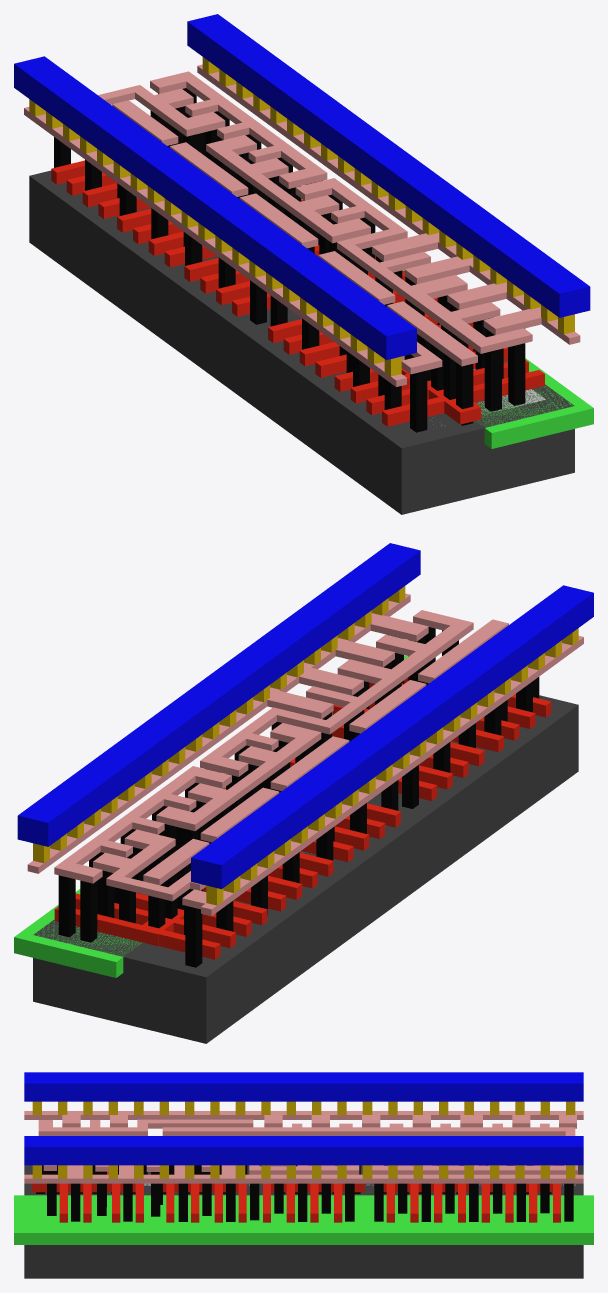
File: sky130_fd_sc_hd__a2111oi_4.obj
3 views of the same model, one above another, from view 1: azimuth 30°, elevation 25°; view 2: azimuth 150°, elevation 25°; view 3: azimuth 270°, elevation 25° (orthographic). The views are drawn at different scales.
Visible parts, largest first — view 1: subs, metal1, li, licon, poly, mcon, nwell; view 2: subs, metal1, li, licon, poly, mcon, nwell; view 3: metal1, subs, nwell, li, licon, poly, mcon.
Boxes of the visible parts, left/top/right/bottom form: subs: left=29, top=170, right=574, bottom=514; metal1: left=14, top=14, right=590, bottom=360; li: left=24, top=64, right=580, bottom=386; licon: left=54, top=88, right=525, bottom=432; poly: left=51, top=160, right=544, bottom=426; mcon: left=29, top=57, right=574, bottom=376; nwell: left=301, top=198, right=593, bottom=448; subs: left=33, top=695, right=578, bottom=1043; metal1: left=17, top=543, right=593, bottom=889; li: left=27, top=593, right=583, bottom=915; licon: left=58, top=627, right=539, bottom=967; poly: left=54, top=677, right=551, bottom=959; mcon: left=33, top=586, right=578, bottom=905; nwell: left=14, top=655, right=408, bottom=977; metal1: left=24, top=1072, right=583, bottom=1165; subs: left=24, top=1165, right=583, bottom=1278; nwell: left=14, top=1195, right=593, bottom=1244; li: left=24, top=1111, right=583, bottom=1183; licon: left=36, top=1165, right=573, bottom=1221; poly: left=31, top=1165, right=560, bottom=1222; mcon: left=32, top=1101, right=575, bottom=1178.
Bounding box in the file's own units: 3.2 × 2.74 × 10.5.
